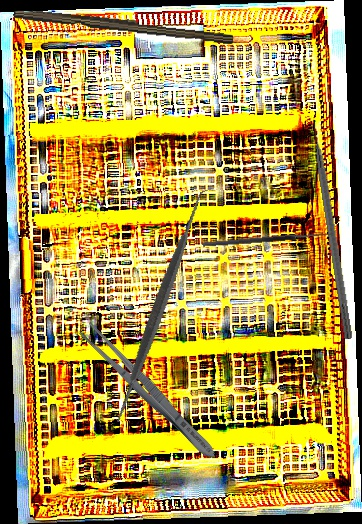Dressing Forceps: (76, 319, 222, 465)
Hook Surgical: (309, 115, 356, 340), (201, 224, 334, 248)
Scalpel Handle: (12, 5, 235, 45)
Spatula Surgical: (40, 186, 280, 428)
